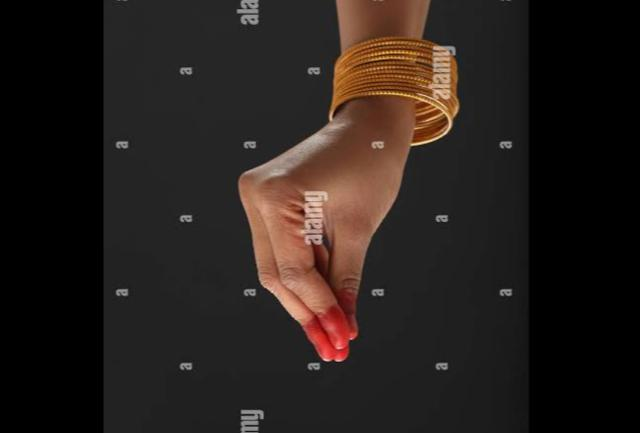mukul: (239, 95, 452, 360)
